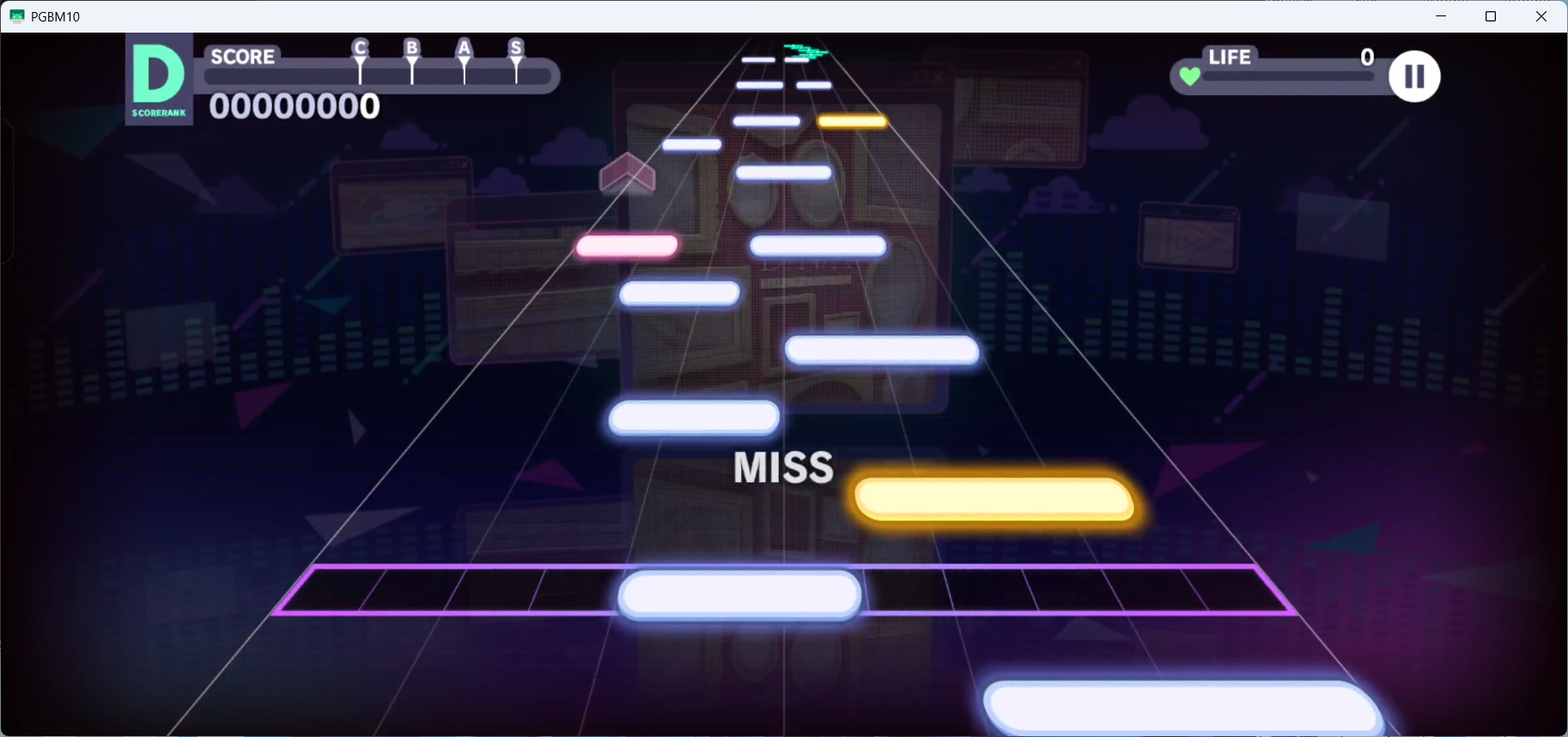flick: (599, 152, 655, 200)
sweep: (799, 52, 822, 57), (791, 45, 811, 50), (792, 55, 816, 59), (806, 50, 829, 54), (798, 48, 820, 51), (784, 44, 803, 47)
tap: (982, 680, 1386, 737), (617, 571, 863, 622), (855, 478, 1133, 523), (784, 335, 982, 368), (607, 401, 780, 438), (750, 235, 886, 257), (619, 281, 738, 306), (575, 234, 678, 257), (736, 166, 831, 180), (818, 115, 885, 126), (733, 116, 799, 126), (662, 139, 721, 150), (736, 82, 783, 88), (741, 56, 775, 63), (796, 82, 831, 88), (784, 57, 809, 63)
